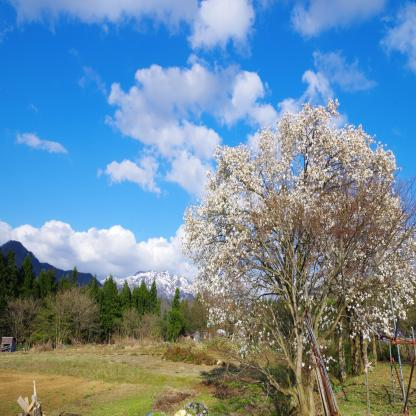Mokuren: (180, 97, 415, 370)
